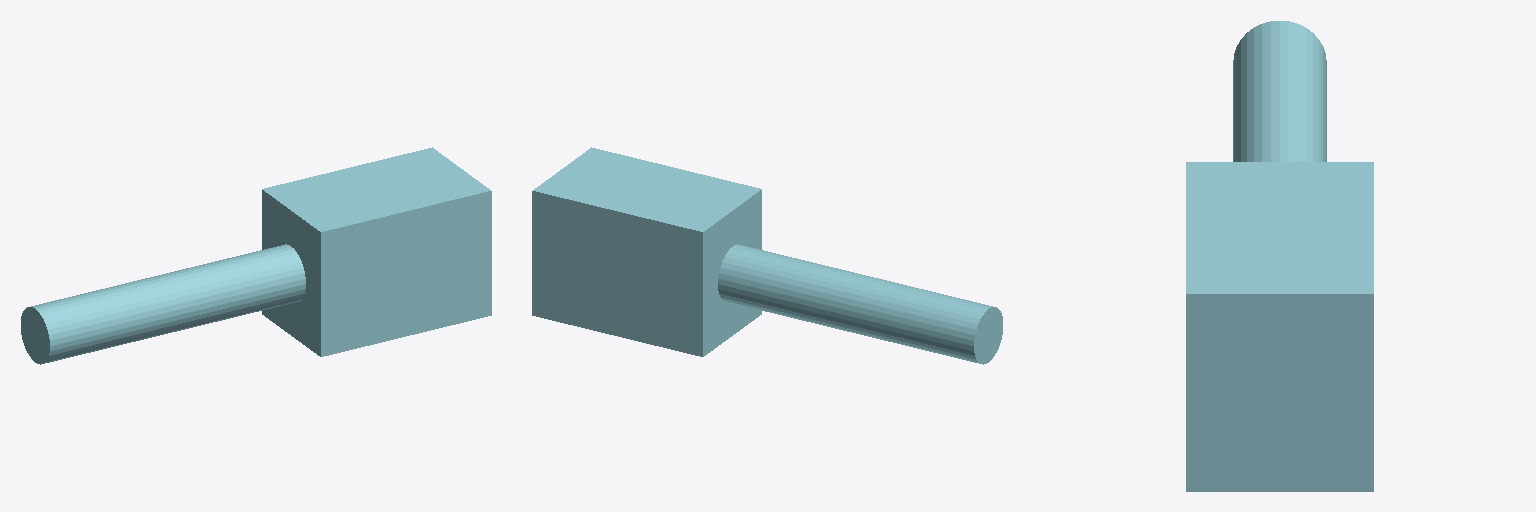
robot.urdf — primitive_sideways_brush:
<?xml version="1.0"?>
<robot name="primitive_sideways_brush">

  <link name="primitive_sideways_brush">
    <!-- Handle -->
    <visual>
      <origin xyz="0 0 0" rpy="0 1.5707963267948966 0"/>
      <geometry>
        <cylinder length="0.15" radius="0.015"/>
      </geometry>
      <material name="material">
        <color rgba="0.639 0.847 0.882 1.0"/>
      </material>
    </visual>
    <collision>
      <origin xyz="0 0 0" rpy="0 1.5707963267948966 0"/>
      <geometry>
        <cylinder length="0.15" radius="0.015"/>
      </geometry>
    </collision>

    <!-- Head -->
    <visual>
      <origin xyz="0.125 0 0" rpy="0 0 0"/>
      <geometry>
        <box size="0.1 0.06 0.07"/>
      </geometry>
      <material name="material">
        <color rgba="0.639 0.847 0.882 1.0"/>
      </material>
    </visual>
    <collision>
      <origin xyz="0.125 0 0" rpy="0 0 0"/>
      <geometry>
        <box size="0.1 0.06 0.07"/>
      </geometry>
    </collision>

    <inertial>
      <density value="400.0"/>
    </inertial>
  </link>

</robot>

--- Render facts (derived) ---
Views: 3 orthographic renders of the robot side by side, from view 1: azimuth 30°, elevation 25°; view 2: azimuth 150°, elevation 25°; view 3: azimuth 270°, elevation 25°.
Robot: primitive_sideways_brush — 1 links, 0 joints (none); root link primitive_sideways_brush; default pose: all joints at 0.
Visible links, largest first — view 1: primitive_sideways_brush; view 2: primitive_sideways_brush; view 3: primitive_sideways_brush.
Boxes of the visible links, box(x1,y1,x2,y2) form: primitive_sideways_brush: box(21, 147, 491, 364); primitive_sideways_brush: box(532, 147, 1002, 364); primitive_sideways_brush: box(1186, 21, 1373, 491).
Bounding box of the posed robot: 0.25 × 0.06 × 0.07 m (x, y, z).
Geometry: primitives only (box / cylinder / sphere), no mesh files.
